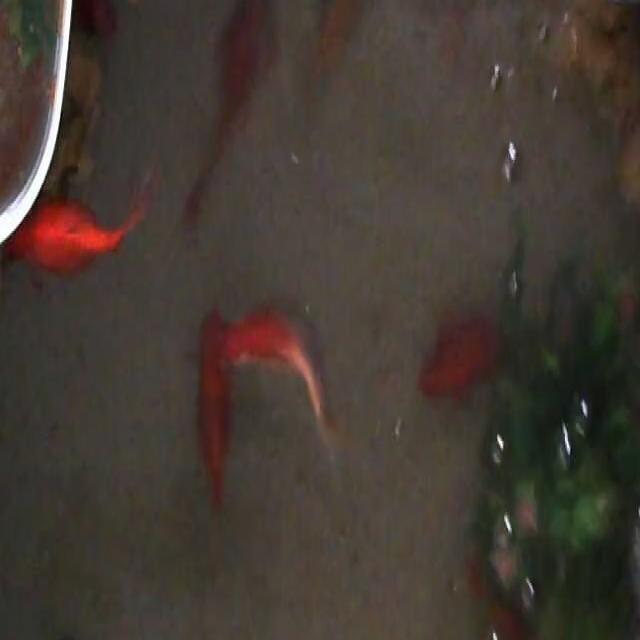fish: (225, 294, 338, 506), (183, 0, 272, 229), (2, 160, 156, 281), (415, 309, 503, 403), (195, 305, 233, 512), (304, 0, 363, 103), (466, 556, 536, 640), (69, 0, 116, 44)
